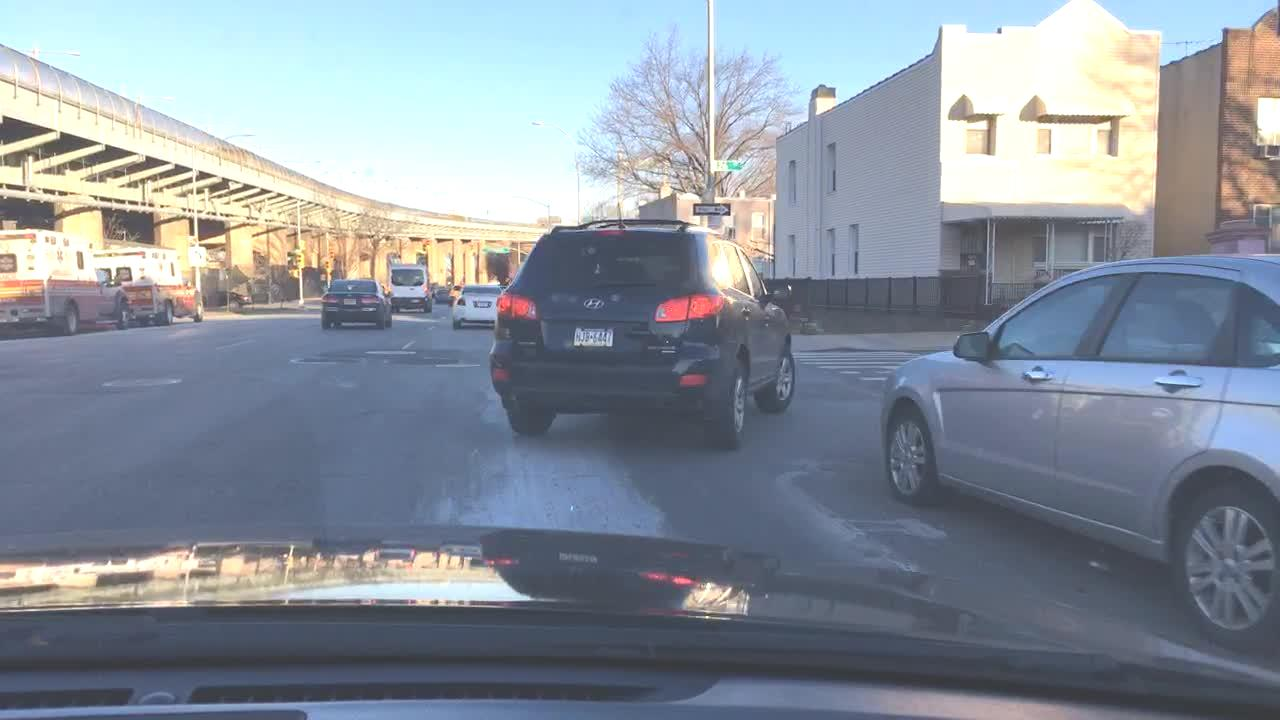Hyundai: (575, 289, 609, 315)
